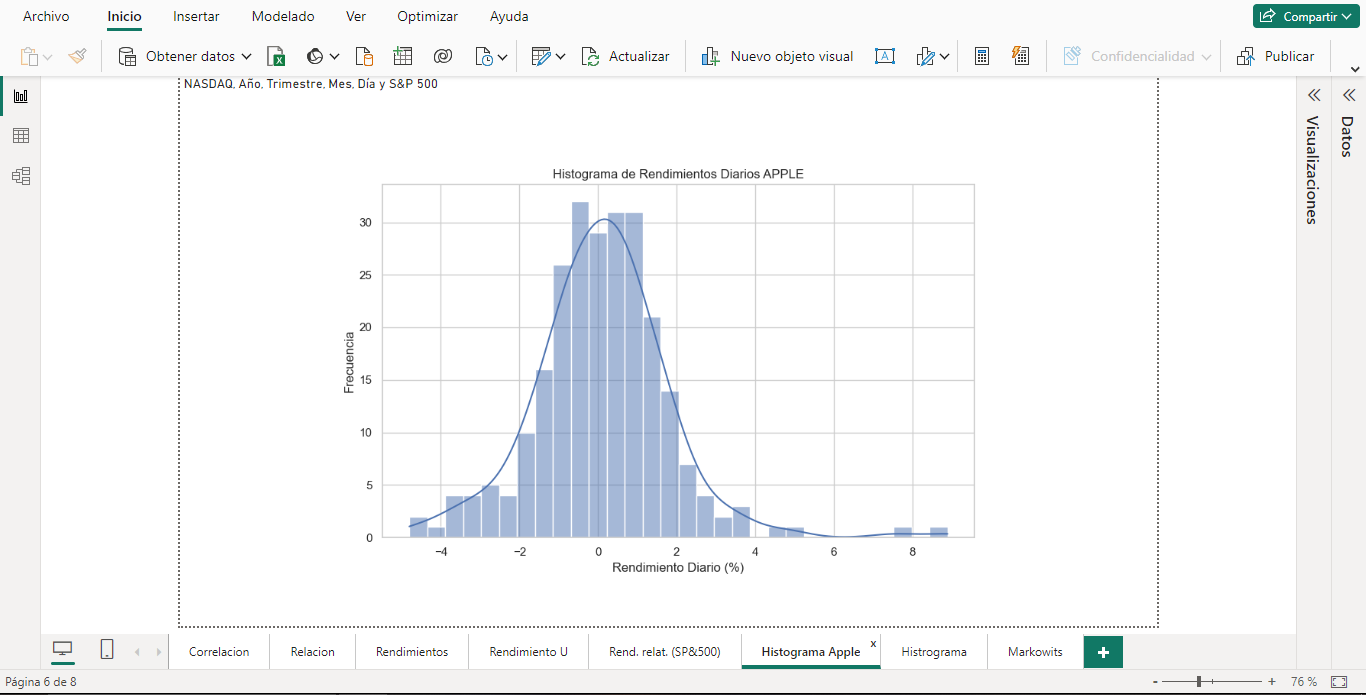

Layout of this report page (visuals, bound fields, positions):
{"tool":"powerbi","page":{"name":"Histograma Apple","canvas":[1280,720],"ordinal":5},"visuals":[{"type":"pythonVisual","fields":{"Values":["Hoja1.NASDAQ","Hoja1.Date.Variación.Jerarquía de fechas.Año","Hoja1.Date.Variación.Jerarquía de fechas.Trimestre","Hoja1.Date.Variación.Jerarquía de fechas.Mes","Hoja1.Date.Variación.Jerarquía de fechas.Día","Hoja1.S&P 500"]},"box":[0,0,1279.5,720],"z":0}]}

Visuals, with their boxes on the page's 1280x720 design canvas (x1, y1, x2, y2). These are canvas units, not pixel positions in the 1366x695 screenshot, which may show the page scaled, cropped or inside an application window:
pythonVisual - Hoja1.NASDAQ x Hoja1.Date.Variación.Jerarquía de fechas.Año: locate(0, 0, 1280, 720)
